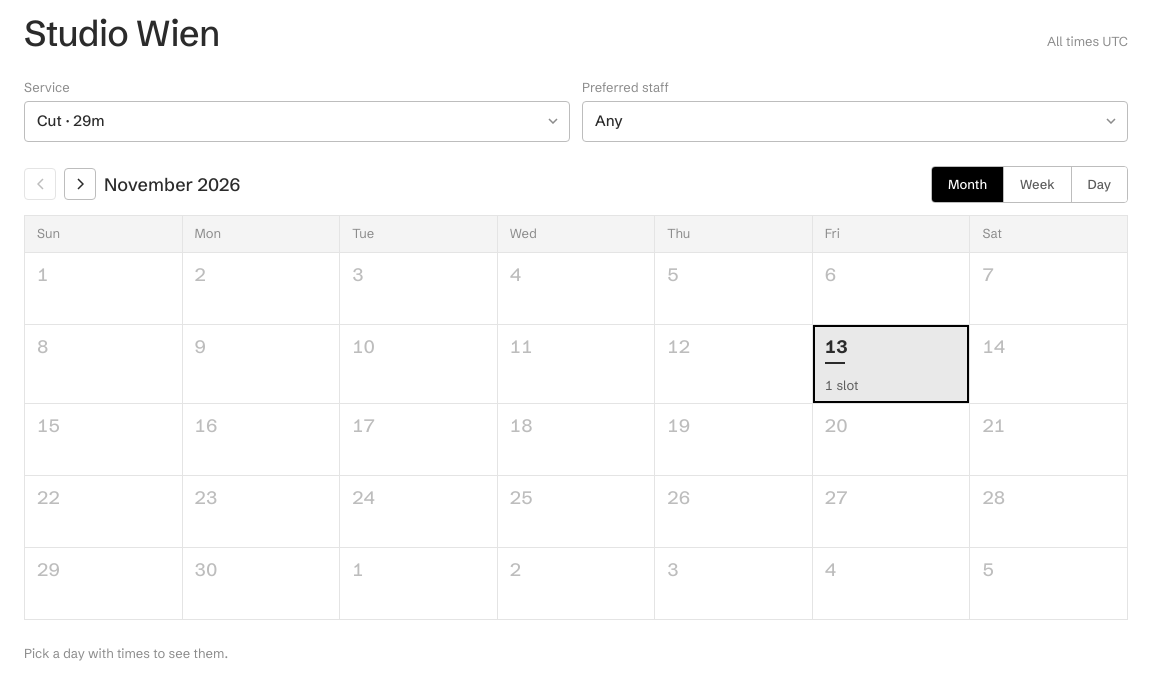
it: Booking › books a time and shows the link to change or cancel it
Click the button "13 1 slot" at (892, 364), box [813,325,970,404]
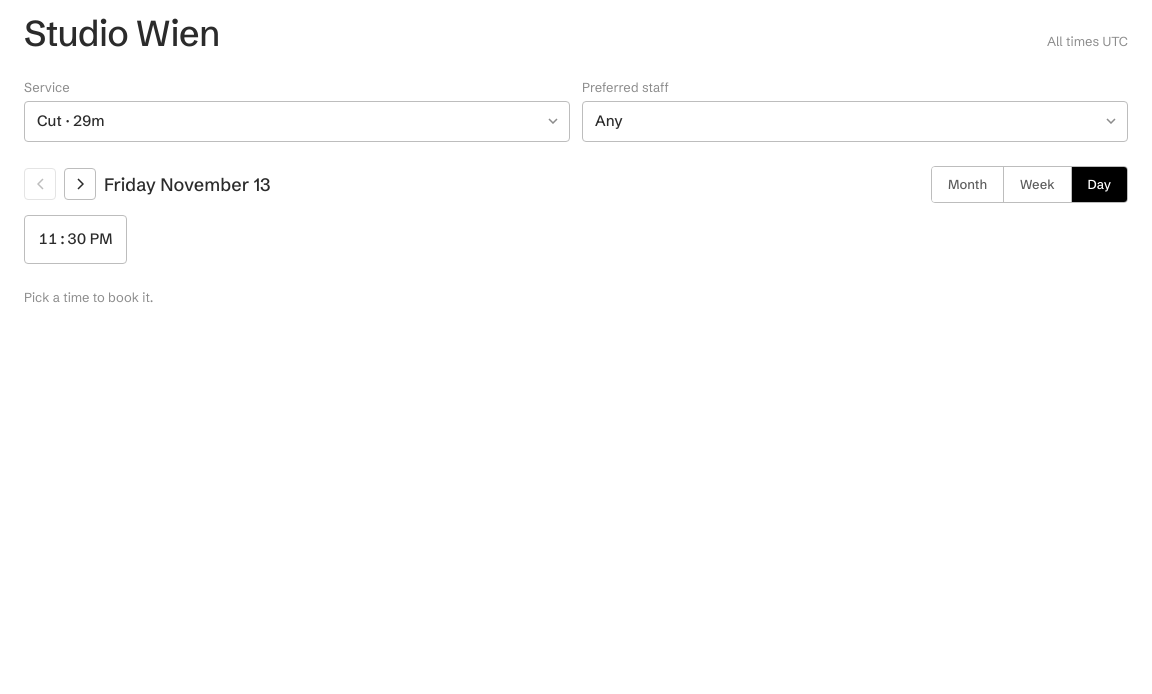
Click the button "11:30 PM" at (76, 239), box [24,215,127,264]
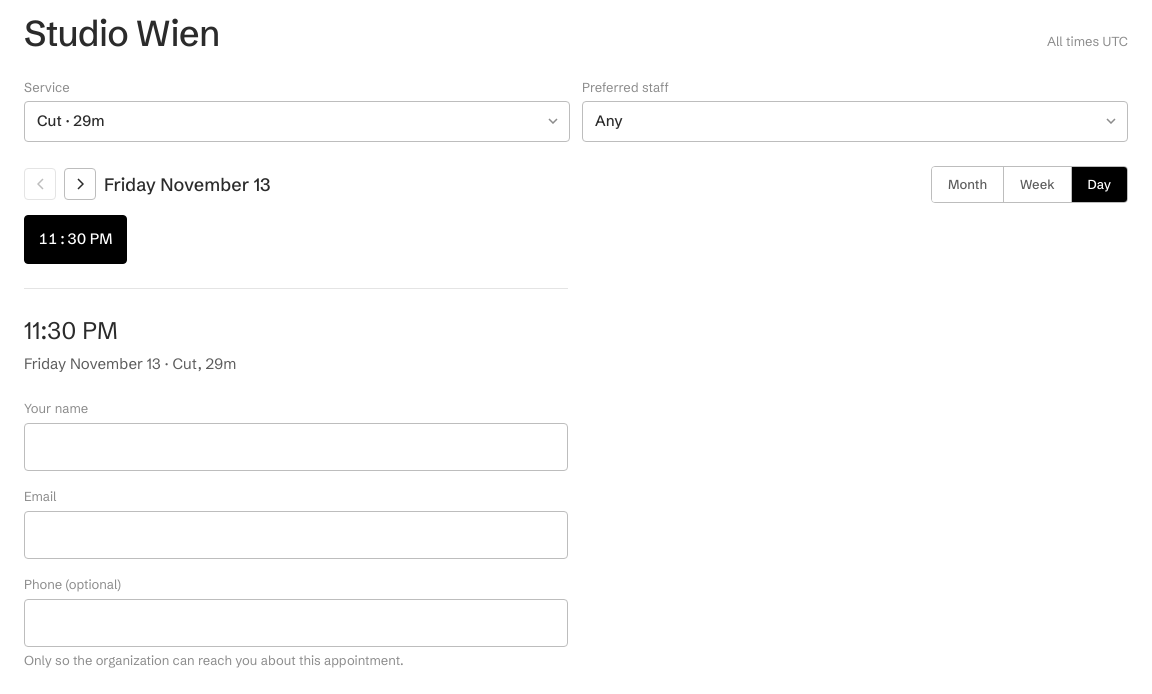
Type "Jo" into the field labelled "Your name" at (296, 447), box [24,423,568,471]
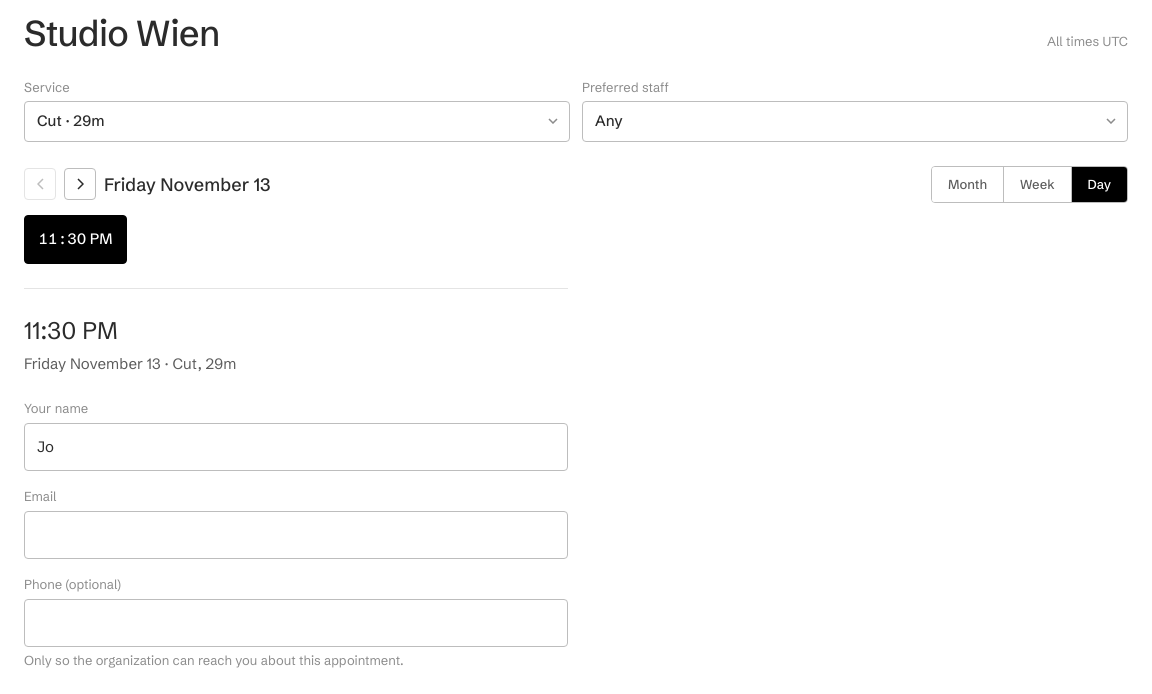
Type "jo@example.com" into the field labelled "Email" at (296, 535), box [24,511,568,559]
(page scrolled)
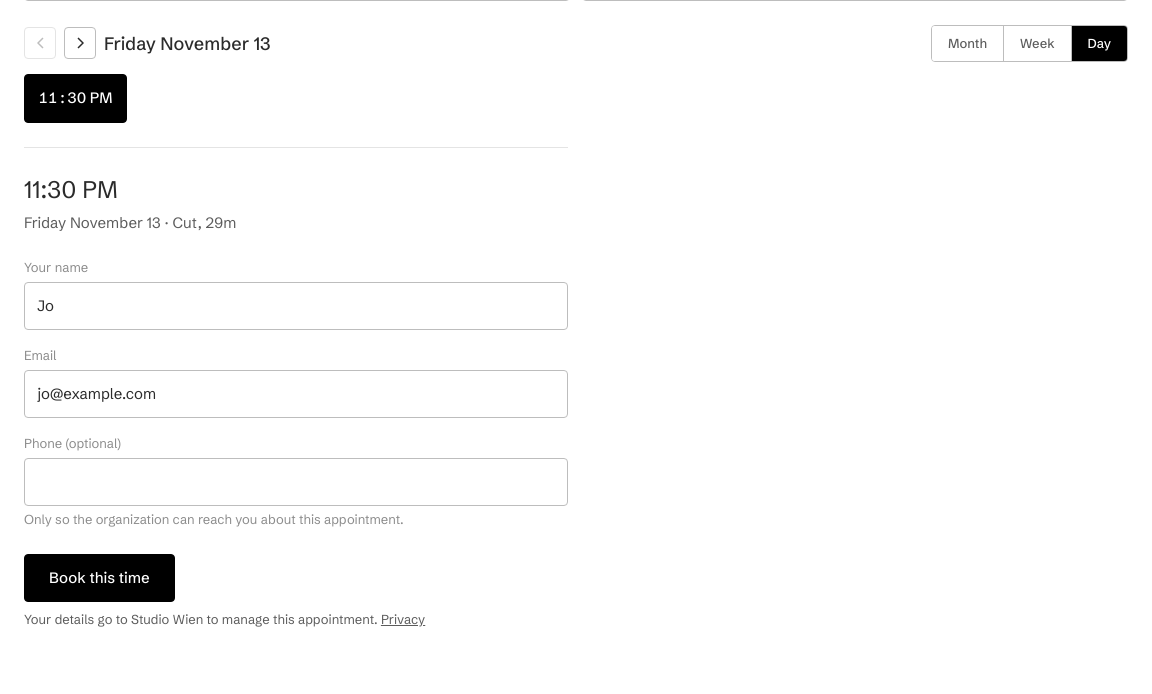
Click the button "Book this time" at (99, 578), box [24,554,175,602]
(page scrolled)
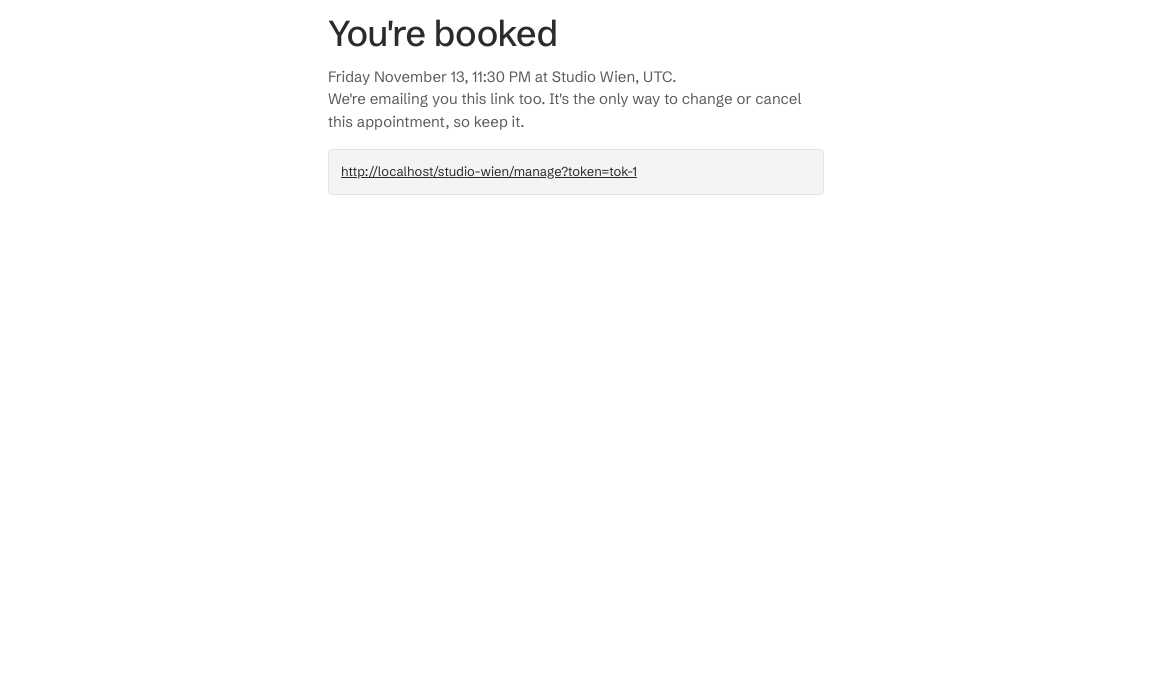
Expected: the heading "You're booked" is shown, [328,11,558,55]
Expected: the link "http://localhost/studio-wien/manage?token=tok-1" is shown, [328,149,824,195]
